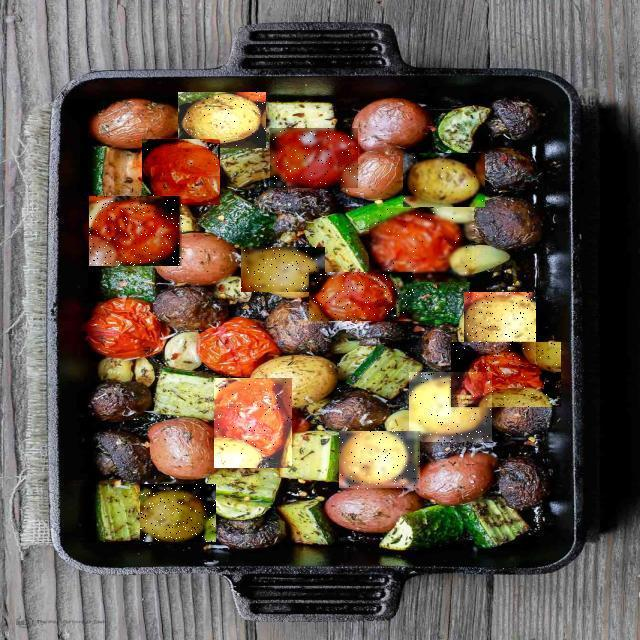Potatoes: (409, 372, 492, 442), (464, 292, 536, 364), (178, 92, 266, 148), (340, 432, 422, 490), (403, 153, 485, 207), (141, 484, 217, 542), (241, 247, 325, 292)
Tomatoes: (370, 208, 474, 282), (451, 342, 561, 407), (214, 379, 292, 469), (90, 196, 184, 266), (271, 128, 359, 188), (310, 272, 416, 321), (142, 139, 220, 205)
